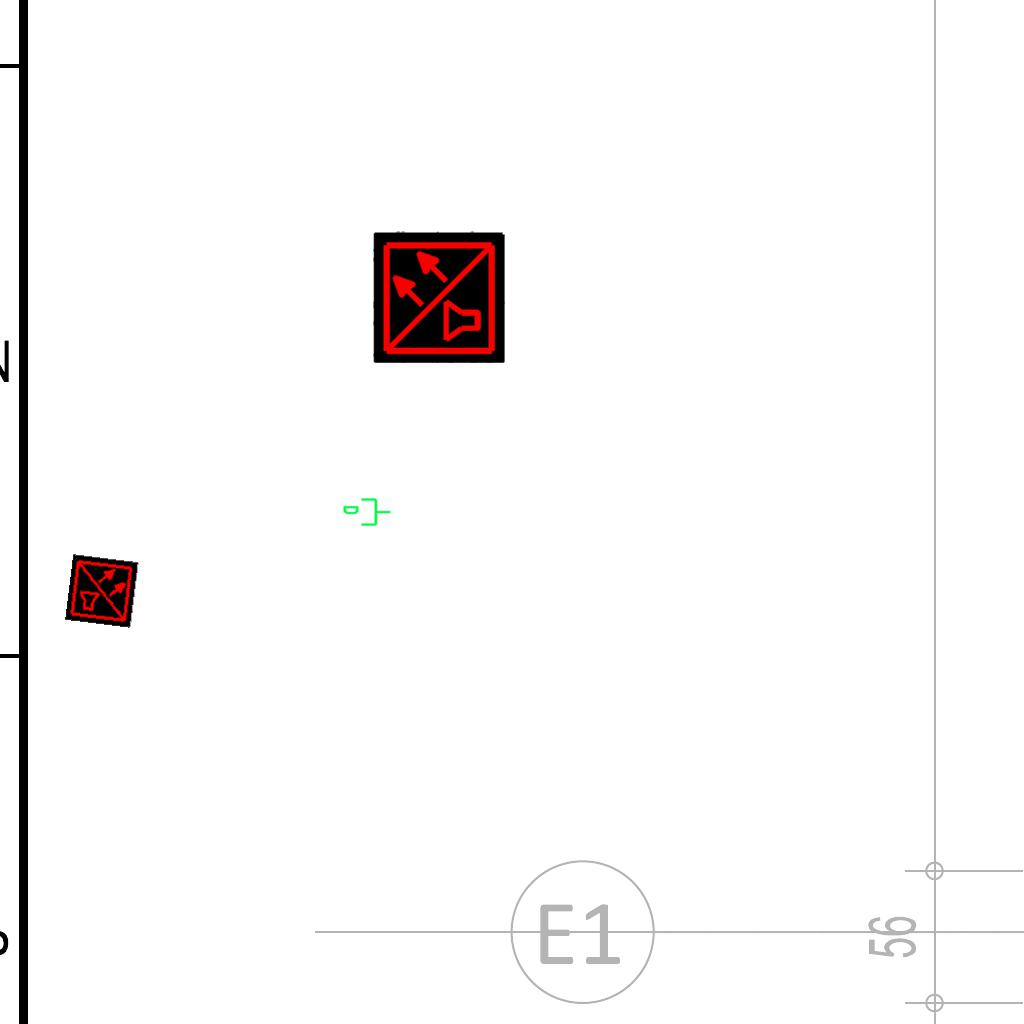Datenanschluss_einfach: (342, 496, 392, 530)
OKW_Multisensormelder_(Kombination_optischer_Rauch-Kahlenmonoxid_Waerme-Melder): (373, 231, 505, 363), (65, 554, 139, 628)
